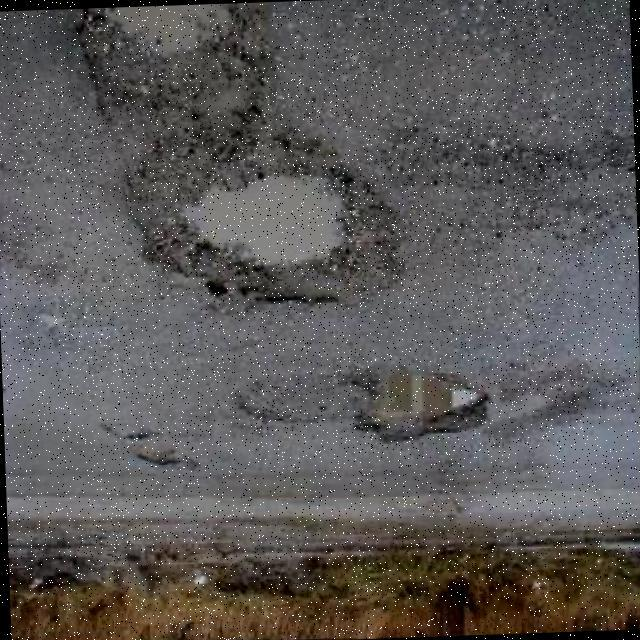Pothole: (81, 1, 405, 304), (235, 363, 489, 441), (134, 444, 196, 468), (100, 421, 151, 441)
